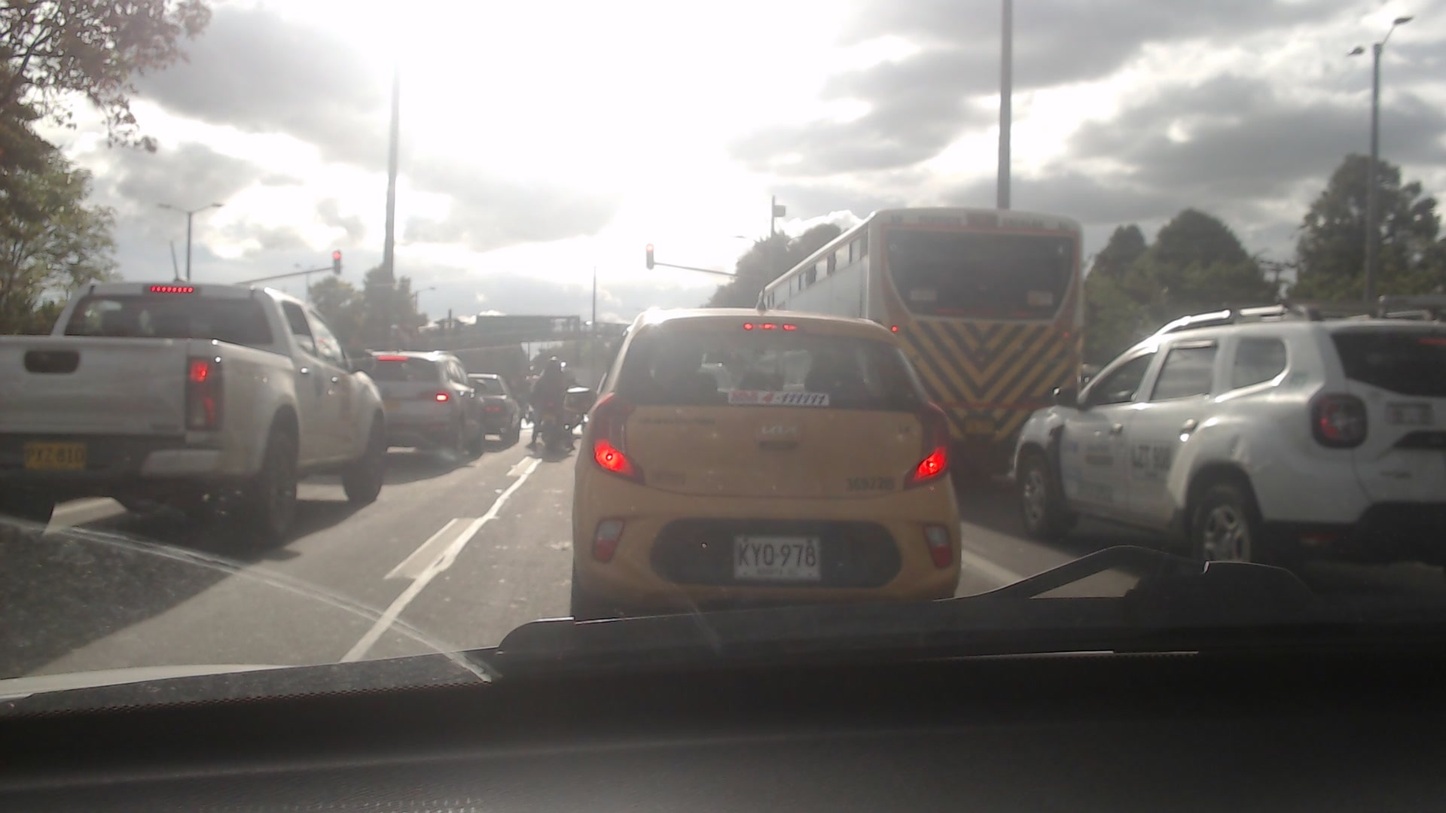bus: (737, 212, 1081, 443)
car: (553, 312, 956, 603), (1006, 309, 1446, 573), (0, 279, 362, 541), (347, 352, 487, 459), (463, 372, 524, 443)
motorcycle: (529, 398, 574, 447)
person: (530, 354, 575, 420)
